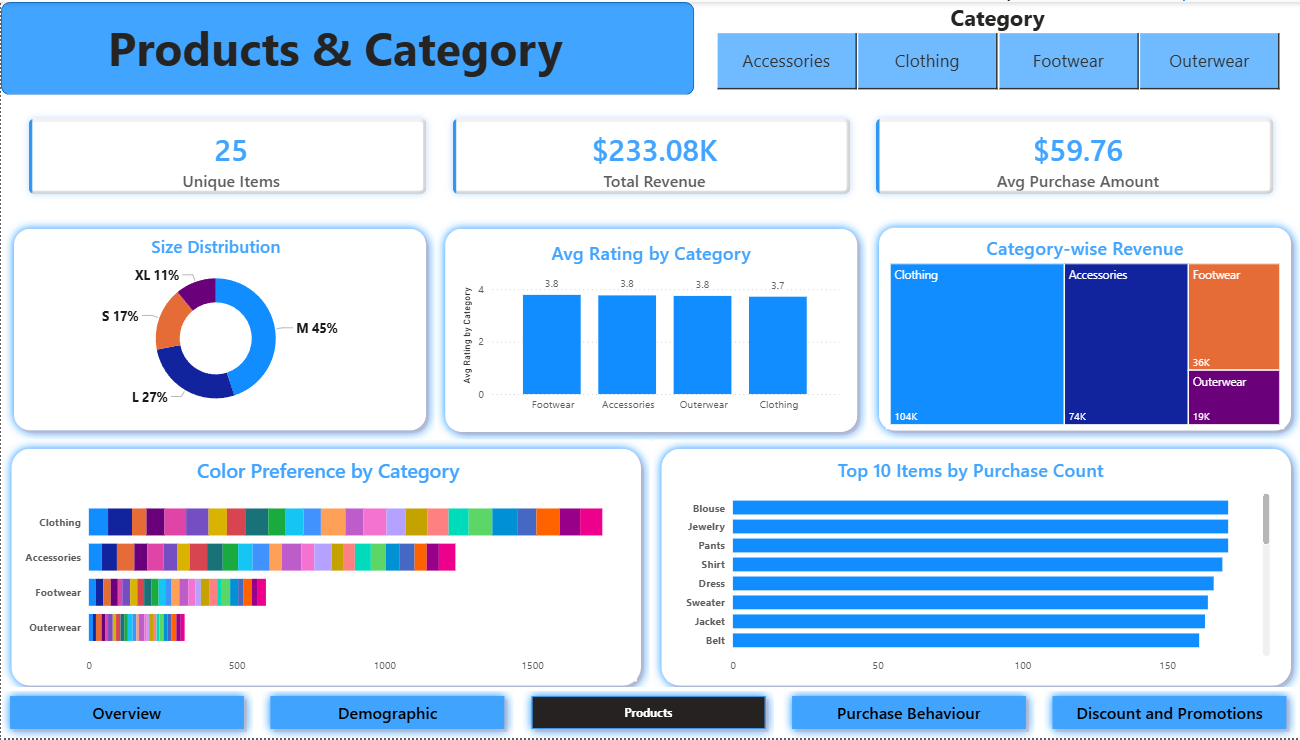

This screenshot's page, from the dashboard's own definition file:
{"tool":"powerbi","page":{"name":"Products","canvas":[1500,850],"ordinal":2},"visuals":[{"type":"shape","box":[0,0,800.5,107.6],"z":0},{"type":"shape","box":[4.9,251.1,497.3,254.3],"z":1000},{"type":"shape","box":[502.2,251.1,497.3,256],"z":2000},{"type":"shape","box":[1.6,505.4,748.4,295.1],"z":3000},{"type":"shape","box":[1002.7,249.5,497.3,256],"z":4000},{"type":"shape","box":[751.6,505.4,748.4,295.1],"z":5000},{"type":"cardVisual","fields":{"Data":["customer.Total_Unique_Items","customer.Total_Revenue","customer.Avg_Purchase_Amount"]},"box":[4.2,106.9,1495.8,143.5],"z":6000},{"type":"clusteredBarChart","title":"Top 10 Items by Purchase Count","fields":{"Category":["customer.item_purchased"],"Y":["CountNonNull(customer.item_purchased)"]},"box":[769.6,525,701.1,259.2],"z":7000},{"type":"treemap","title":"Category-wise Revenue","fields":{"Group":["customer.category"],"Values":["customer.Category Revenue"]},"box":[1022.3,269,459.8,225],"z":8000},{"type":"clusteredColumnChart","title":"Avg Rating by Category","fields":{"Category":["customer.category"],"Y":["customer.Avg Rating by Category"]},"box":[528.3,273.9,445.1,208.7],"z":9000},{"type":"donutChart","title":"Size Distribution","fields":{"Category":["customer.size"],"Y":["customer.Total_Customers"]},"box":[21.1,268.8,453.1,213.9],"z":10000},{"type":"barChart","title":"Color Preference by Category","fields":{"Category":["customer.category"],"Series":["customer.color"],"Y":["customer.Total_Customers"]},"box":[21.2,525,712.5,259.2],"z":11000},{"type":"textbox","box":[34.2,11.4,717.4,96.2],"z":12000},{"type":"slicer","title":"Category","fields":{"Values":["customer.category"]},"box":[800.5,0,699.5,107.6],"z":13000},{"type":"pageNavigator","box":[0,790.4,1499.5,59.6],"z":14000}]}

Visuals, with their boxes in screenshot pixels (x1, y1, x2, y2), scaled from the page's 1500x850 canvas onto the 1300x740 screenshot:
shape: 0:0:694:94
shape: 4:219:435:440
shape: 435:219:866:441
shape: 1:440:650:697
shape: 869:217:1299:440
shape: 651:440:1299:697
cardVisual - customer.Total_Unique_Items x customer.Total_Revenue: 4:93:1299:218
"Top 10 Items by Purchase Count" clusteredBarChart: 667:457:1275:683
"Category-wise Revenue" treemap: 886:234:1284:430
"Avg Rating by Category" clusteredColumnChart: 458:238:844:420
"Size Distribution" donutChart: 18:234:411:420
"Color Preference by Category" barChart: 18:457:636:683
textbox: 30:10:651:94
"Category" slicer: 694:0:1299:94
pageNavigator: 0:688:1299:739
